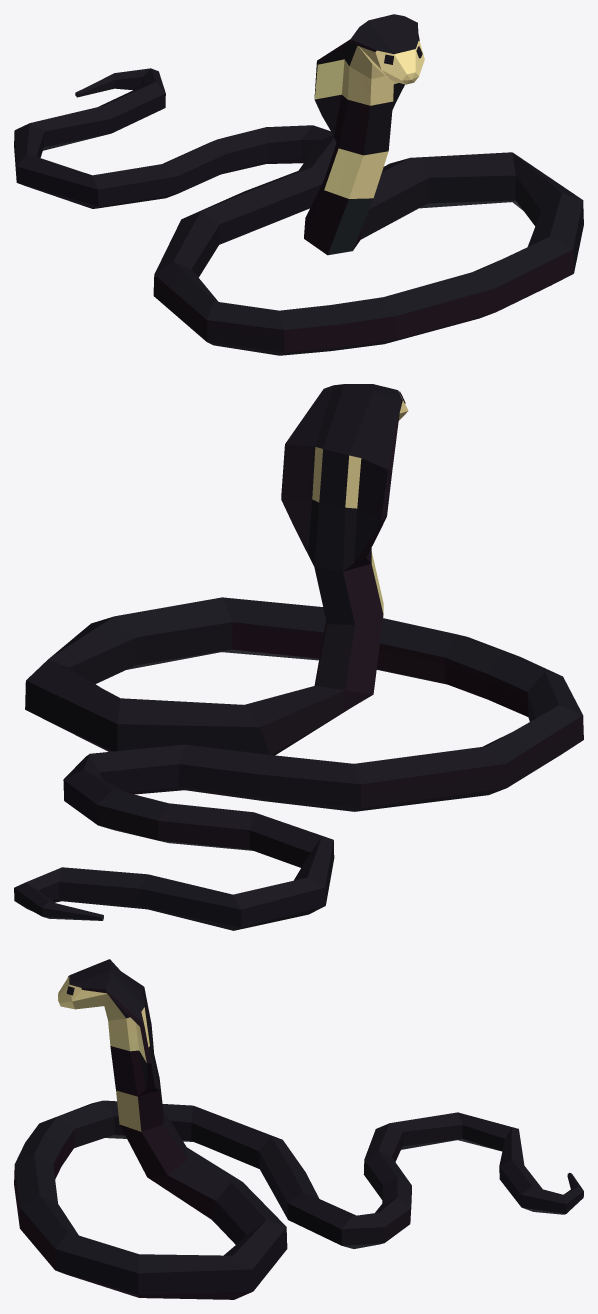
File: animals-cobra-038.glb
3 views of the same model, one above another, from view 1: azimuth 30°, elevation 25°; view 2: azimuth 150°, elevation 25°; view 3: azimuth 270°, elevation 25° (orthographic). The views are drawn at different scales.
Visible parts, largest first — view 1: Geo_Cobra; view 2: Geo_Cobra; view 3: Geo_Cobra.
Part boxes in pixels (x1,y1,x2,y2): Geo_Cobra: [14, 14, 583, 355]; Geo_Cobra: [14, 384, 583, 930]; Geo_Cobra: [14, 959, 583, 1299].
Bounding box in the file's own units: 42.61 × 28.85 × 59.77.
Materials: 1 (1 with a texture image).
